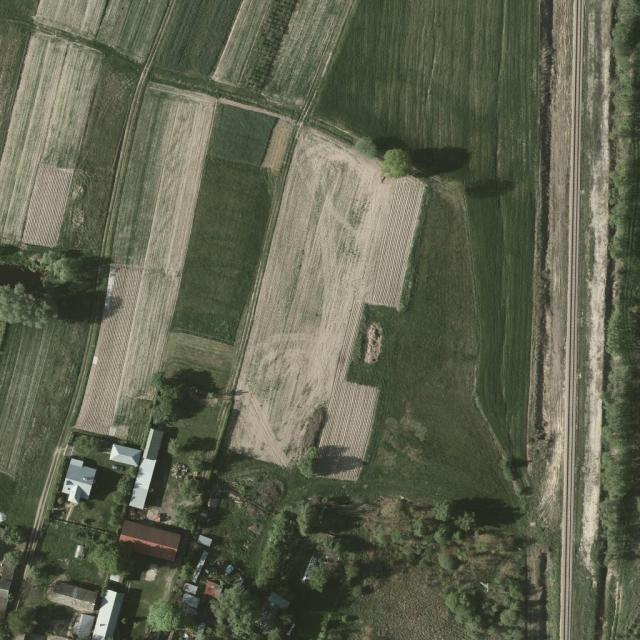greenland: (6, 508, 122, 640), (145, 371, 228, 532), (0, 236, 97, 339)
unmetalled_road: (560, 0, 586, 638)
